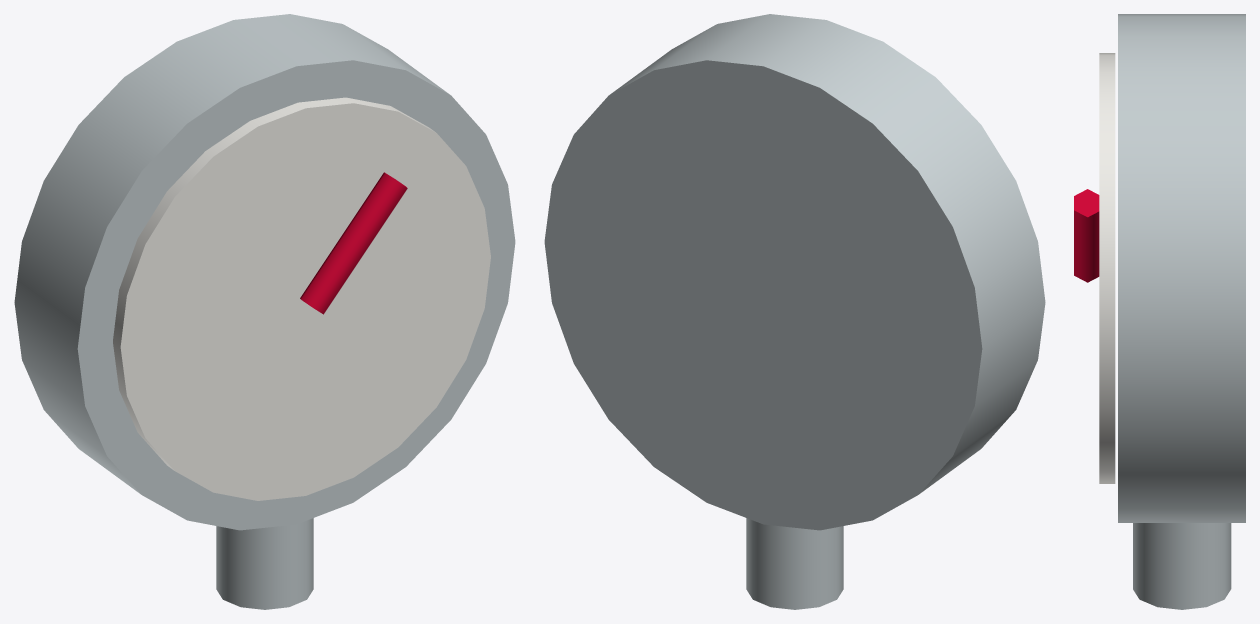
File: Pressure_Gauge.fbx
The picture shows the model from 3 angles, left to right: view 1: azimuth 30°, elevation 25°; view 2: azimuth 150°, elevation 25°; view 3: azimuth 270°, elevation 25°; orthographic projection.
Visible parts, largest first — view 1: Pressure_Gauge_White, Pressure_Gauge_Steel, Pressure_Gauge_Red; view 2: Pressure_Gauge_Steel; view 3: Pressure_Gauge_Steel, Pressure_Gauge_White, Pressure_Gauge_Red.
Part boxes in pixels (x1,y1,x2,y2): Pressure_Gauge_White: [113, 97, 490, 500]; Pressure_Gauge_Steel: [14, 14, 515, 609]; Pressure_Gauge_Red: [300, 172, 407, 314]; Pressure_Gauge_Steel: [544, 14, 1045, 609]; Pressure_Gauge_Steel: [1118, 14, 1245, 609]; Pressure_Gauge_White: [1099, 53, 1115, 483]; Pressure_Gauge_Red: [1074, 189, 1099, 282].
Size of the model in its own units: 26 by 31 by 8.74.
